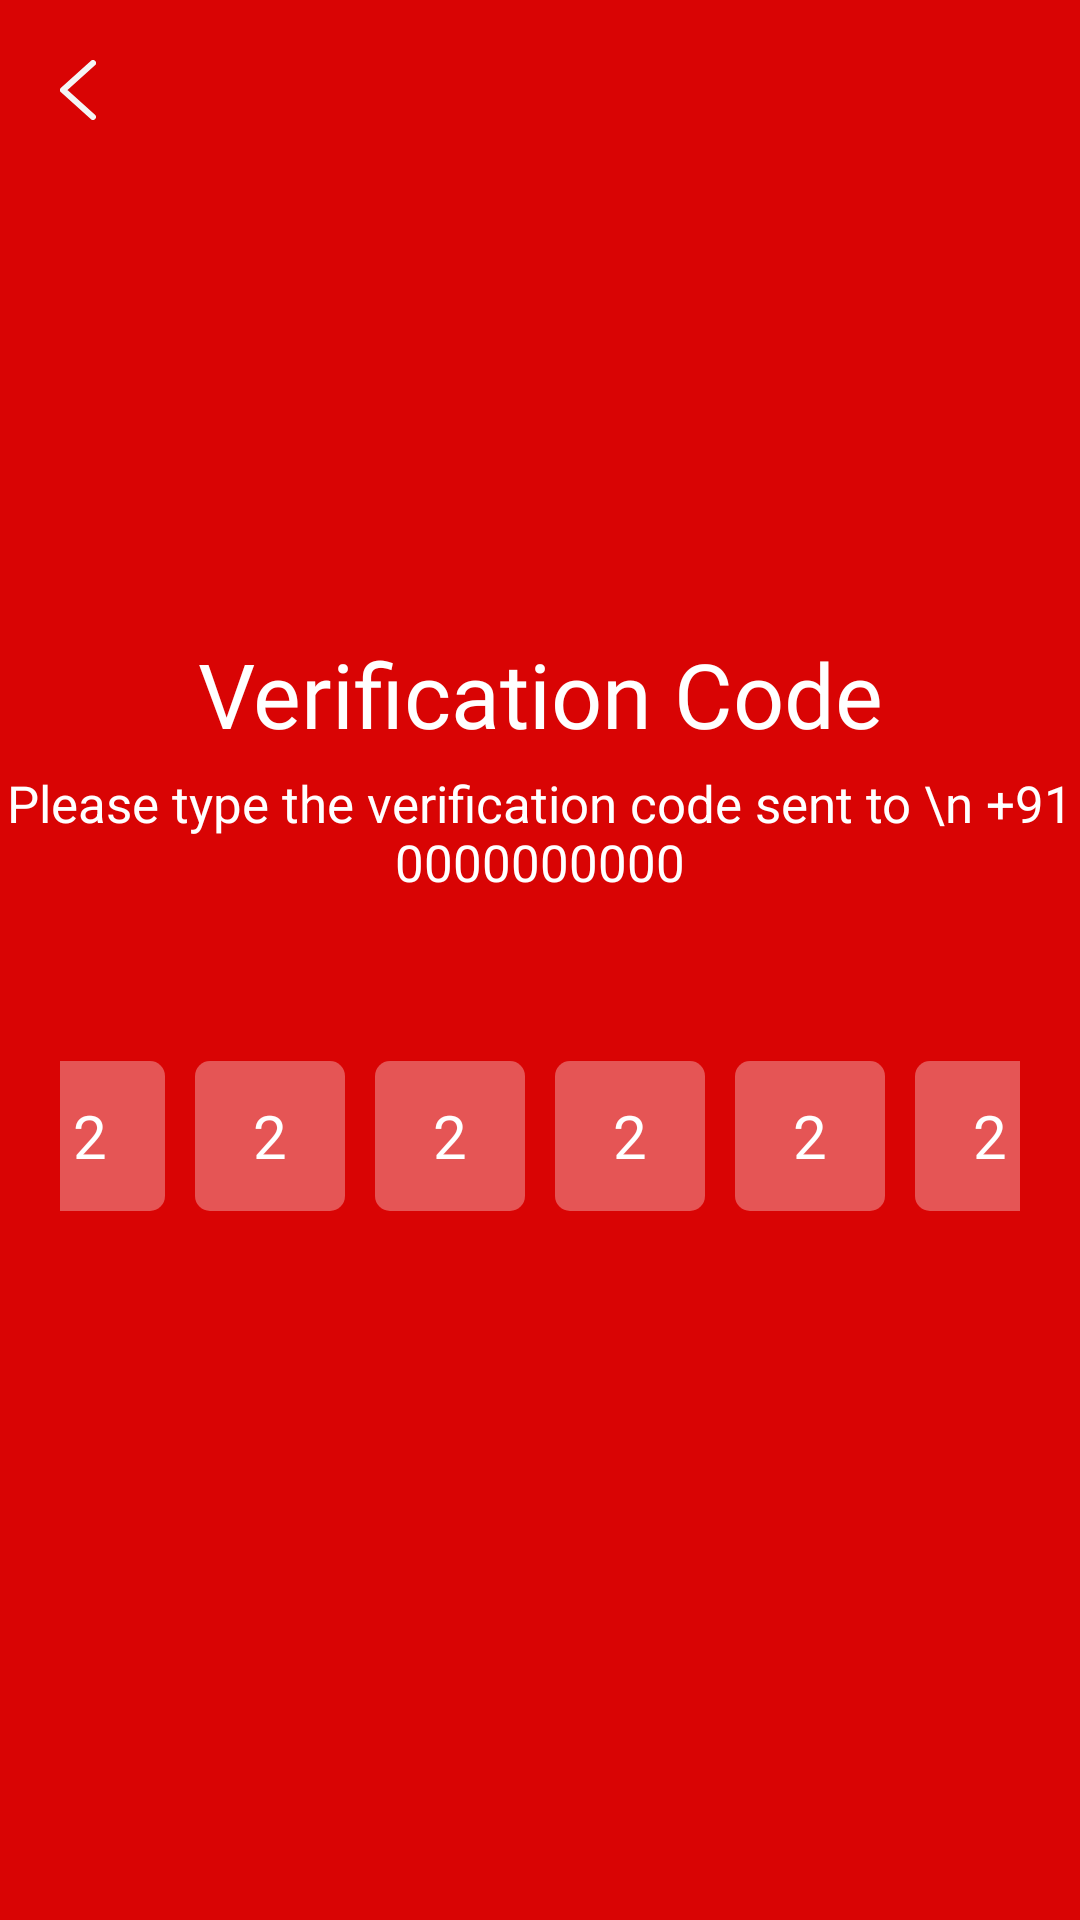

Icons on this 1080 × 1920 Android screen, each with its box as (x1, y1, x2, y2):
back: (60, 60, 96, 120)
